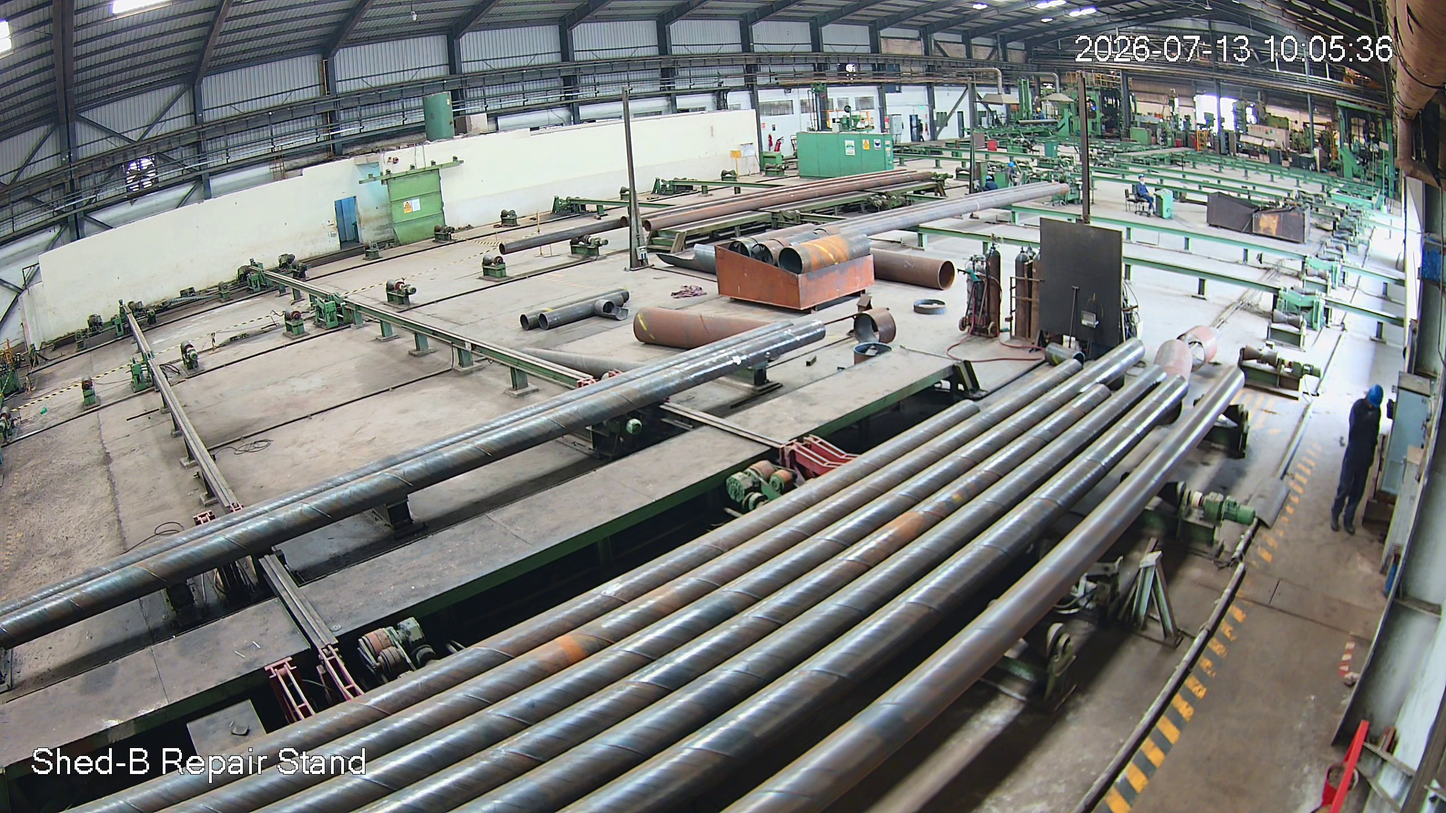Helmet: (1363, 384, 1388, 417)
Person: (1328, 385, 1392, 535)
